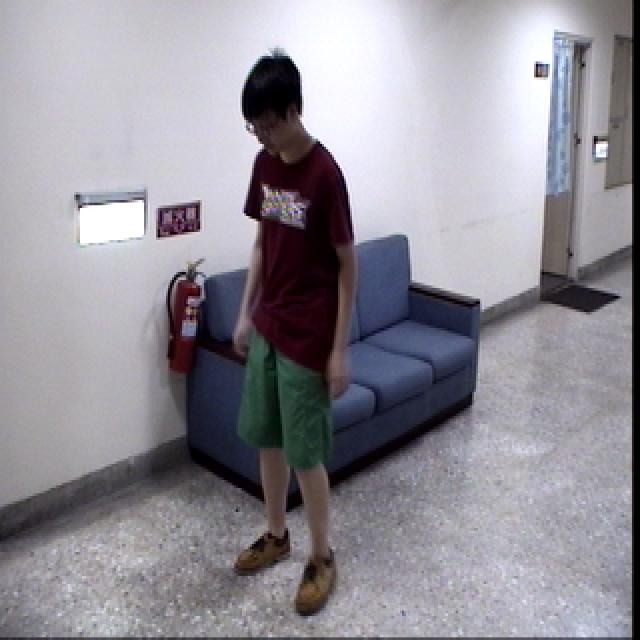stand: (223, 49, 357, 620)
